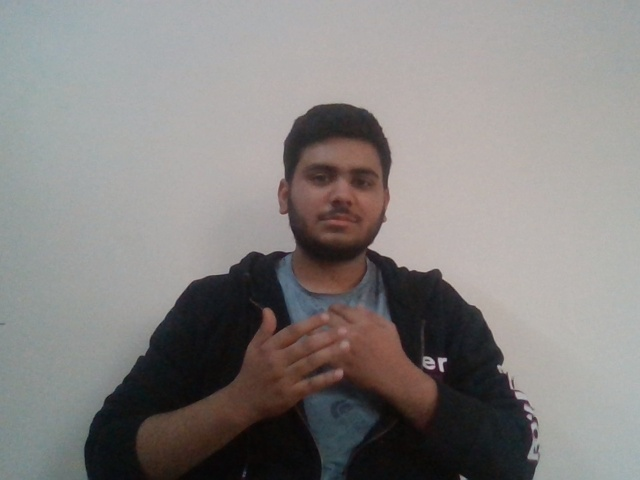Please: (241, 300, 409, 401)
